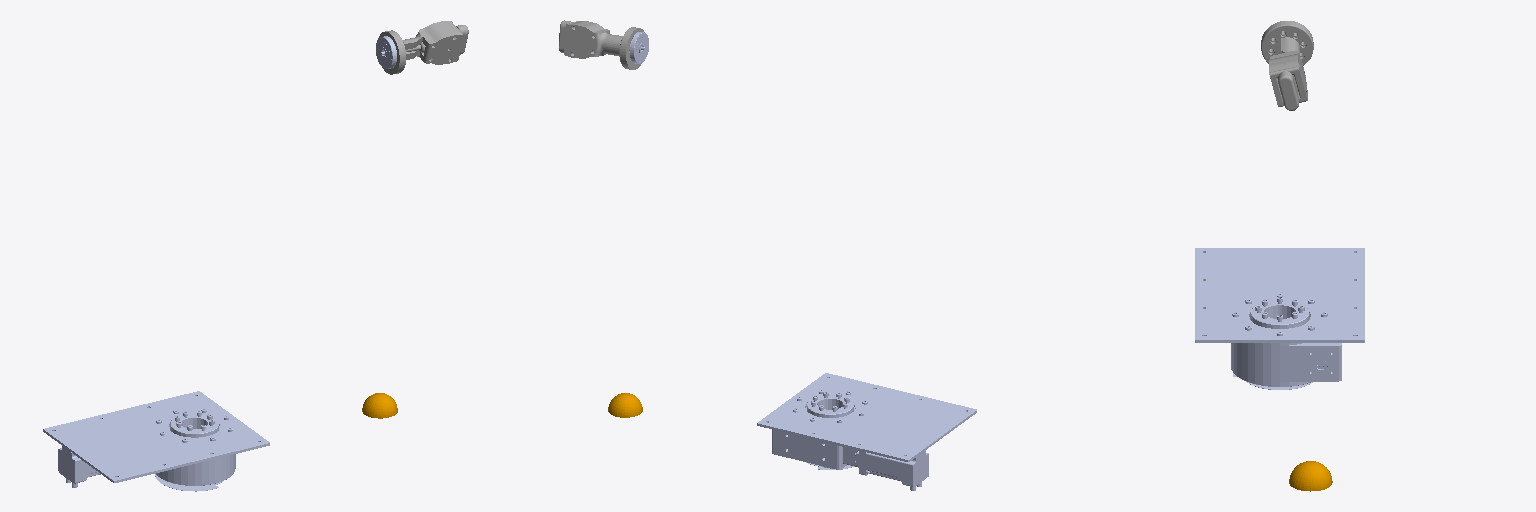
robot.urdf — asm_1:
<?xml version="1.0" encoding="utf-8"?>
<!-- This URDF was automatically created by SolidWorks to URDF Exporter! Originally created by [author] ([email redacted]) 
     Commit Version: 1.5.1-0-g916b5db  Build Version: 1.5.7152.31018
     For more information, please see http://wiki.ros.org/sw_urdf_exporter -->
<robot
  name="asm_1">

  <link name="world"/>
  <joint name="world_joint" type="fixed">
        <origin xyz="0.0 0.0 0.0" rpy="0.0 0.0 0.0"/>
        <parent link="world"/>
        <child link="base_link"/>
  </joint>

  <link
    name="base_link">
    <inertial>
      <origin
        xyz="0.0 0.0 0.0"
        rpy="0 0 0" />
      <mass
        value="2.4607" />
      <inertia
        ixx="0.0069217"
        ixy="-1.0599E-06"
        ixz="1.1757E-07"
        iyy="0.012469"
        iyz="2.0494E-07"
        izz="0.0076194" />
    </inertial>
    <visual>
      <origin
        xyz="0 0 0"
        rpy="0 0 0" />
      <geometry>
        <mesh
          filename="package://igus_robot/meshes/base_link.STL" />
      </geometry>
      <material
        name="">
        <color
          rgba="0.79216 0.81961 0.93333 1" />
      </material>
    </visual>
    <collision>
      <origin
        xyz="0 0 0"
        rpy="0 0 0" />
      <geometry>
        <mesh
          filename="package://igus_robot/meshes/base_link.STL" />
      </geometry>
    </collision>
  </link>
  <link
    name="Link_1">
    <inertial>
      <origin
        xyz="-0.026118 -1.7545E-05 -0.11163"
        rpy="0 0 0" />
      <mass
        value="2.6429" />
      <inertia
        ixx="0.0067366"
        ixy="-1.1774E-06"
        ixz="8.9568E-05"
        iyy="0.0097419"
        iyz="2.9557E-07"
        izz="0.0057265" />
    </inertial>
    <visual>
      <origin
        xyz="0 0 0"
        rpy="0 0 0" />
      <geometry>
        <mesh
          filename="package://igus_robot/meshes/Link_1.STL" />
      </geometry>
      <material
        name="">
        <color
          rgba="0.79216 0.81961 0.93333 1" />
      </material>
    </visual>
    <collision>
      <origin
        xyz="0 0 0"
        rpy="0 0 0" />
      <geometry>
        <mesh
          filename="package://igus_robot/meshes/Link_1.STL" />
      </geometry>
    </collision>
  </link>

  <!--joint1.................-->
  <joint
    name="Joint_1"
    type="revolute">
    <origin
      xyz="0.25645 -0.2011 0.20188"
      rpy="-3.1416 0 0.020516" />
    <parent
      link="base_link" />
    <child
      link="Link_1" />
    <axis
      xyz="0 0 1" />
    <limit
      lower="0"
      upper="6.28318530718"
      effort="300"
      velocity="1" />
  </joint>


  <link
    name="Link_2">
    <inertial>
      <origin
        xyz="0.0032077 1.2812E-07 -0.24166"
        rpy="0 0 0" />
      <mass
        value="1.3839" />
      <inertia
        ixx="0.0068039"
        ixy="-6.6512E-06"
        ixz="7.6969E-06"
        iyy="0.0081999"
        iyz="-1.9388E-08"
        izz="0.0021627" />
    </inertial>
    <visual>
      <origin
        xyz="0 0 0"
        rpy="0 0 0" />
      <geometry>
        <mesh
          filename="package://igus_robot/meshes/Link_2.STL" />
      </geometry>
      <material
        name="">
        <color
          rgba="0.79216 0.81961 0.93333 1" />
      </material>
    </visual>
    <collision>
      <origin
        xyz="0 0 0"
        rpy="0 0 0" />
      <geometry>
        <mesh
          filename="package://igus_robot/meshes/Link_2.STL" />
      </geometry>
    </collision>
  </link>

  <!--joint2............-->
  <joint
    name="Joint_2"
    type="revolute">
    <origin
      xyz="0 0 -0.145"
      rpy="0 -0.050649 0" />
    <parent
      link="Link_1" />
    <child
      link="Link_2" />
    <axis
      xyz="0 1 0" />
    <limit
      lower="-1.6"
      upper="1.28318530718"
      effort="300"
      velocity="1" />
  </joint>


  <link
    name="Link_3">
    <inertial>
      <origin
        xyz="0.18475 -6.2782E-05 0.0021847"
        rpy="0 0 0" />
      <mass
        value="0.90865" />
      <inertia
        ixx="0.00095312"
        ixy="-9.4802E-08"
        ixz="3.6486E-06"
        iyy="0.0038465"
        iyz="-2.0287E-06"
        izz="0.0031374" />
    </inertial>
    <visual>
      <origin
        xyz="0 0 0"
        rpy="0 0 0" />
      <geometry>
        <mesh
          filename="package://igus_robot/meshes/Link_3.STL" />
      </geometry>
      <material
        name="">
        <color
          rgba="0.79216 0.81961 0.93333 1" />
      </material>
    </visual>
    <collision>
      <origin
        xyz="0 0 0"
        rpy="0 0 0" />
      <geometry>
        <mesh
          filename="package://igus_robot/meshes/Link_3.STL" />
      </geometry>
    </collision>
  </link>

  <!--joint3..............-->
  <joint
    name="Joint_3"
    type="revolute">
    <origin
      xyz="0 0 -0.35"
      rpy="0 0.73901 0" />
    <parent
      link="Link_2" />
    <child
      link="Link_3" />
    <axis
      xyz="0 1 0" />
    <limit
      lower="-1.0"
      upper="3.0"
      effort="300"
      velocity="1" />
  </joint>


  <link
    name="Link_4">
    <inertial>
      <origin
        xyz="0.00083749 -0.00079123 0.1299"
        rpy="0 0 0" />
      <mass
        value="0.14099" />
      <inertia
        ixx="5.7263E-05"
        ixy="7.6437E-08"
        ixz="1.4886E-06"
        iyy="5.8182E-05"
        iyz="-2.763E-09"
        izz="4.1521E-05" />
    </inertial>
    <visual>
      <origin
        xyz="0 0 0"
        rpy="0 0 0" />
      <geometry>
        <mesh
          filename="package://igus_robot/meshes/Link_4.STL" />
      </geometry>
      <material
        name="">
        <color
          rgba="0.79216 0.81961 0.93333 1" />
      </material>
    </visual>
    <collision>
      <origin
        xyz="0 0 0"
        rpy="0 0 0" />
      <geometry>
        <mesh
          filename="package://igus_robot/meshes/Link_4.STL" />
      </geometry>
    </collision>
  </link>

  <!--joint4........-->
  <joint
    name="Joint_4"
    type="revolute">
    <origin
      xyz="0.27 0 0"
      rpy="0 0.81997 0" />
    <parent
      link="Link_3" />
    <child
      link="Link_4" />
    <axis
      xyz="0 1 0" />
    <limit
      lower="-1.2"
      upper="2.78"
      effort="300"
      velocity="1" />
  </joint>


  <link
    name="End_Effector">
    <inertial>
      <origin
        xyz="1.2361E-05 -1.7117E-05 0.010046"
        rpy="0 0 0" />
      <mass
        value="0.026759" />
      <inertia
        ixx="6.1889E-06"
        ixy="-7.12E-08"
        ixz="-9.3008E-08"
        iyy="5.8567E-06"
        iyz="1.4823E-08"
        izz="1.1614E-05" />
    </inertial>
    <visual>
      <origin
        xyz="0 0 0"
        rpy="0 0 0" />
      <geometry>
        <mesh
          filename="package://igus_robot/meshes/End_Effector.STL" />
      </geometry>
      <material
        name="">
        <color
          rgba="0.79216 0.81961 0.93333 1" />
      </material>
    </visual>
    <collision>
      <origin
        xyz="0 0 0"
        rpy="0 0 0" />
      <geometry>
        <mesh
          filename="package://igus_robot/meshes/End_Effector.STL" />
      </geometry>
    </collision>
  </link>

  <!--joint5...............-->
  <joint
    name="Joint_5"
    type="revolute">
    <origin
      xyz="0 -0.0005 0.17384"
      rpy="0 0 0.28549" />
    <parent
      link="Link_4" />
    <child
      link="End_Effector" />
    <axis
      xyz="0 0 1" />
    <limit
      lower="0"
      upper="6.28318530718"
      effort="300"
      velocity="1" />
  </joint>
  <link
    name="tool_link">
    <visual>
      <origin
        xyz="0 0 0"
        rpy="0 0 0" />
      <geometry>
        <mesh
          filename="package://igus_robot/meshes/tool1.STL" />
      </geometry>
      <!-- <material
        name="">
        <color
          rgba="0.79216 0.81961 0.93333 1" />
      </material> -->
    </visual>
    <collision>
      <origin
        xyz="0 0 0"
        rpy="0 0 0" />
      <geometry>
        <mesh
          filename="package://igus_robot/meshes/tool1.STL" />
      </geometry>
    </collision>
  </link>

  <joint
    name="tool_joint"
    type="fixed">
    <origin
      xyz="0 0 .015"
      rpy="0 0 0" />
    <parent
      link="End_Effector" />
    <child
      link="tool_link" />
  </joint>
  
  
  
   <link
    name="h1_link">
    <visual>
      <origin
        xyz="0 0 0"
        rpy="0 0 0" />
      <geometry>
        <mesh
          filename="package://igus_robot/meshes/tool2.stl" />
      </geometry>
      <!-- <material
        name="">
        <color
          rgba="0.79216 0.81961 0.93333 1" />
      </material> -->
    </visual>
    <collision>
      <origin
        xyz="0 0 0"
        rpy="0 0 0" />
      <geometry>
        <mesh
          filename="package://igus_robot/meshes/tool2.stl" />
      </geometry>
    </collision>
  </link>

  <joint
    name="h1_joint"
    type="fixed">
    <origin
      xyz="0.74603 -0.19055 0.11719"
      rpy="0 0 0" />
    <parent
      link="world" />
    <child
      link="h1_link" />
  </joint>
</robot>

--- Render facts (derived) ---
The picture shows the robot from 3 angles, left to right: view 1: azimuth 30°, elevation 25°; view 2: azimuth 150°, elevation 25°; view 3: azimuth 270°, elevation 25°; orthographic projection.
Model asm_1 with 9 links and 8 joints (5 revolute, 3 fixed), rooted at world, posed all joints at 0.
Links seen in each view (by area): view 1: base_link, tool_link, h1_link, End_Effector; view 2: base_link, tool_link, h1_link; view 3: base_link, tool_link, h1_link.
Link boxes in pixels (bbox=[...]): base_link: bbox=[43, 391, 269, 491]; tool_link: bbox=[378, 21, 468, 74]; h1_link: bbox=[362, 393, 397, 418]; End_Effector: bbox=[376, 36, 396, 68]; base_link: bbox=[757, 373, 976, 490]; tool_link: bbox=[559, 20, 644, 69]; h1_link: bbox=[608, 393, 642, 417]; base_link: bbox=[1195, 248, 1364, 389]; tool_link: bbox=[1261, 21, 1313, 110]; h1_link: bbox=[1289, 461, 1332, 491].
Bounding box of the posed robot: 0.8235 × 0.26 × 0.7885 m (x, y, z).
4 mesh visuals loaded from 8 distinct referenced files (4 binary STL); not drawn: 4 (reference not matched to a file when rendering).